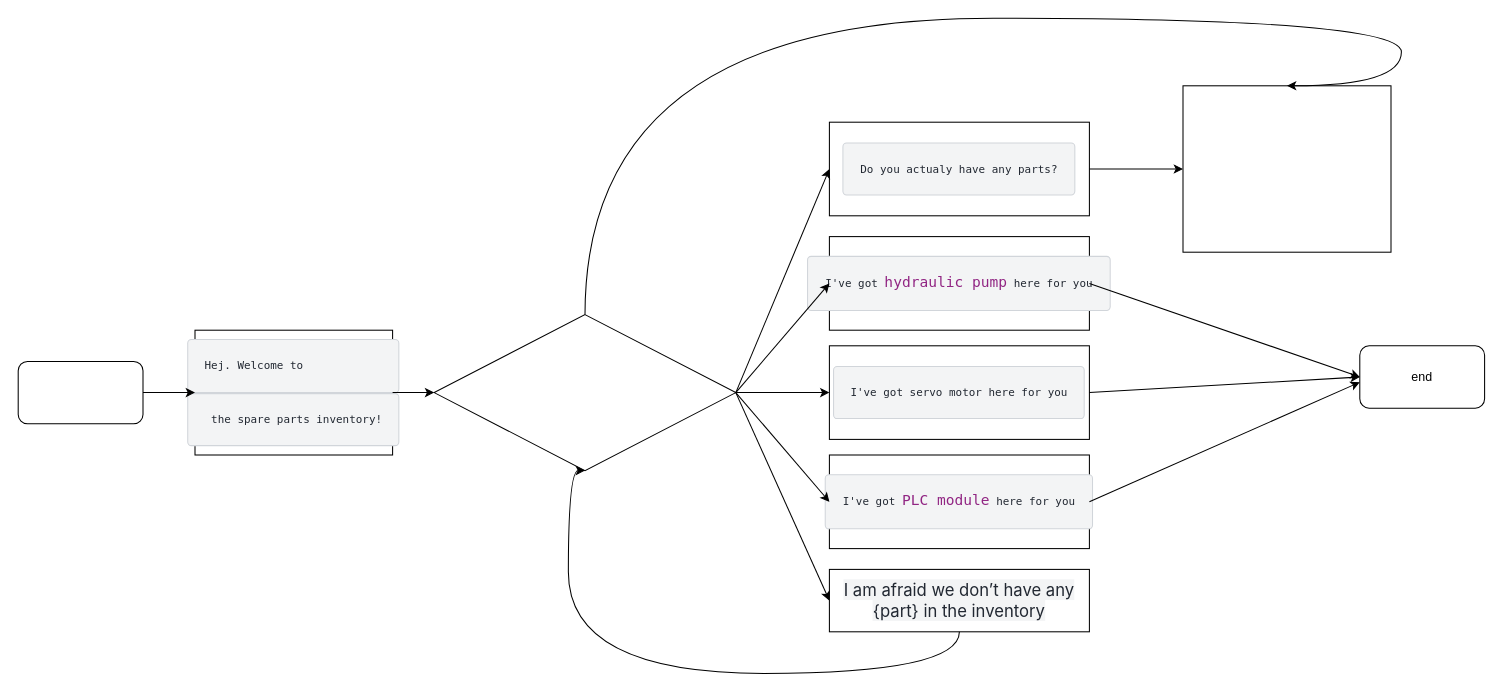
Some shapes in this 1503 by 692 pixel diagram are drawn without their labels. Here are the shapes that lost their labels. From the top down, the box of each, then its label:
(1182, 85, 1391, 252): We have 3 part(s)! hydraulic pump PLC module servo motor
(17, 360, 143, 424): Start
(433, 314, 736, 471): Which part do you need?
